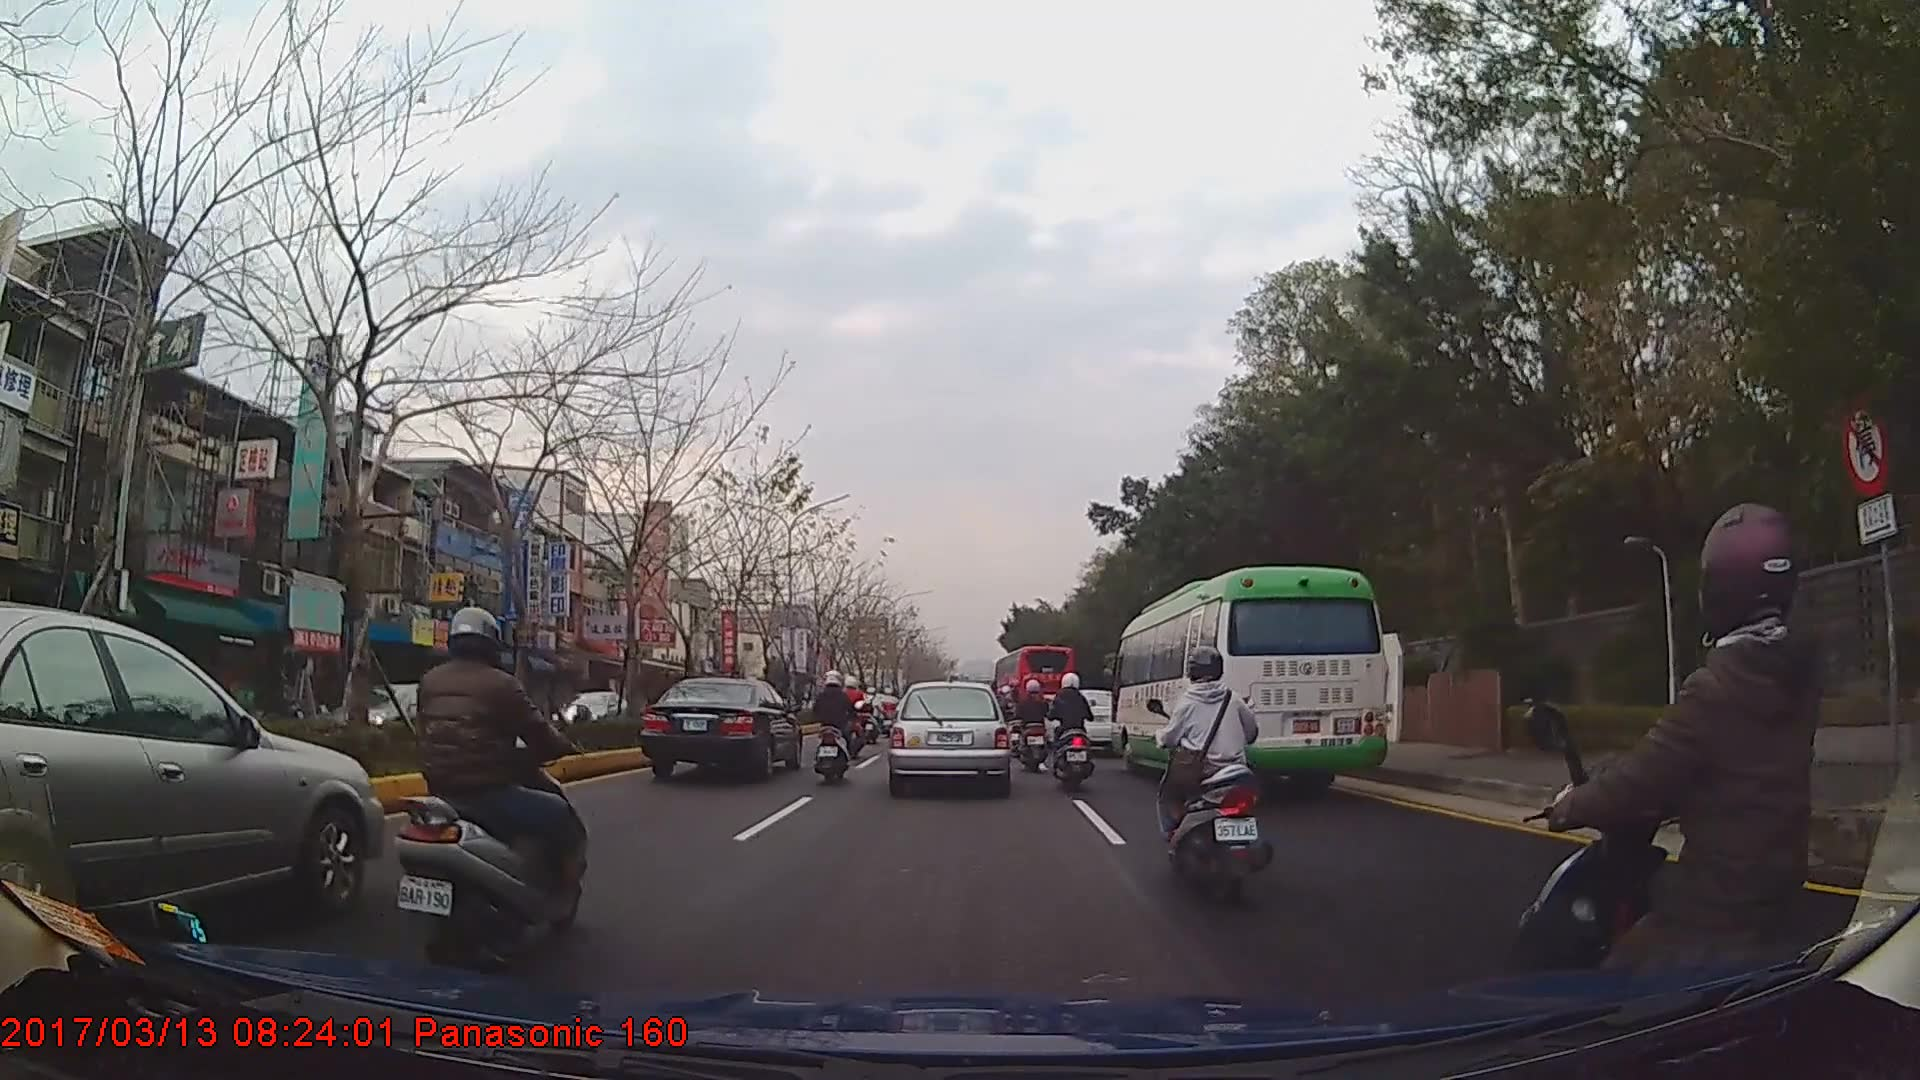rider: (1514, 504, 1920, 1080), (394, 603, 593, 982), (1149, 648, 1267, 903), (1050, 673, 1099, 790), (814, 671, 860, 788), (1017, 677, 1055, 774), (1004, 678, 1028, 755), (861, 689, 887, 745), (880, 686, 901, 726)
vehicle: (0, 608, 390, 956), (1111, 566, 1389, 796), (635, 674, 804, 780), (887, 680, 1010, 796), (996, 641, 1078, 736), (552, 689, 630, 737)
